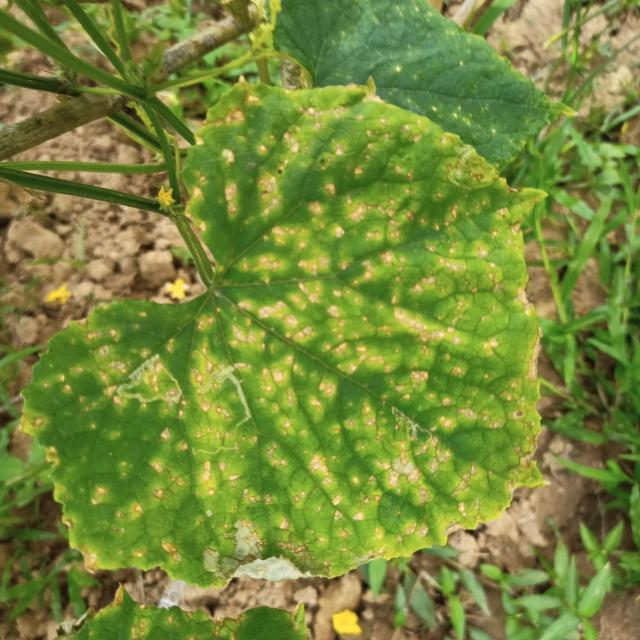disease_cucumber: (42, 95, 540, 571)
